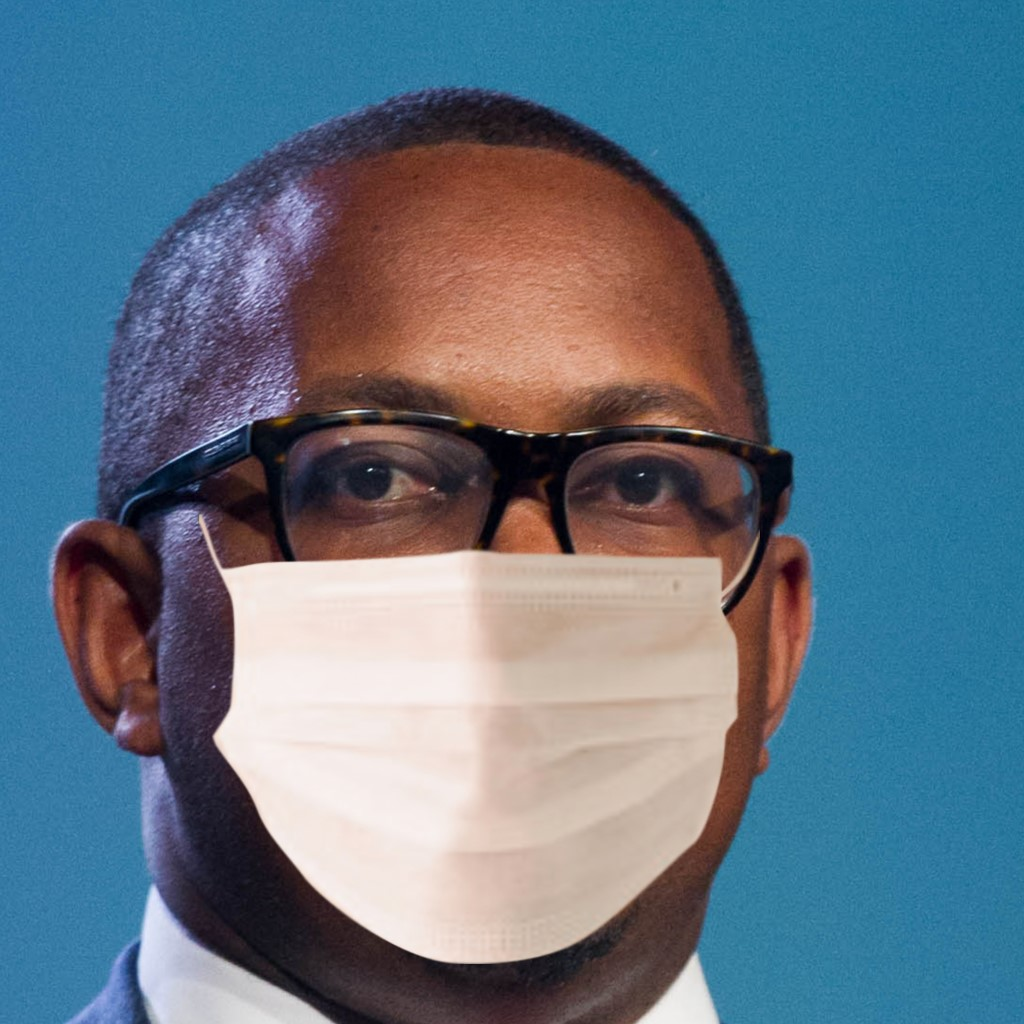con_mascara: (159, 175, 757, 961)
